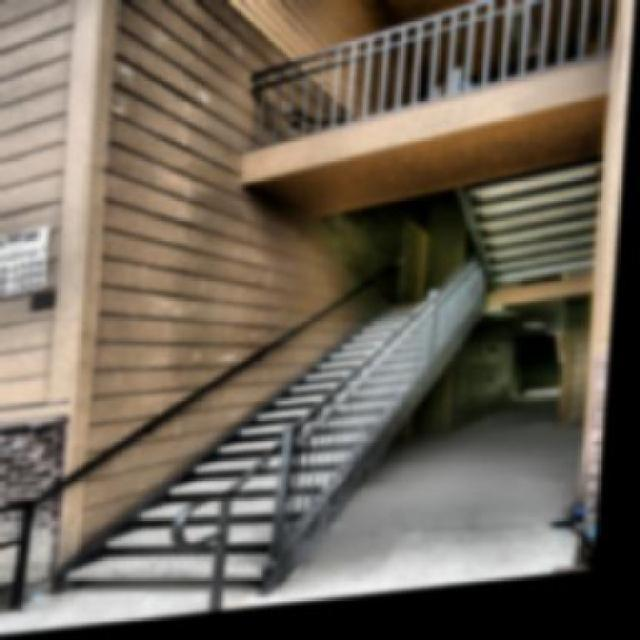stair: (51, 340, 491, 620)
